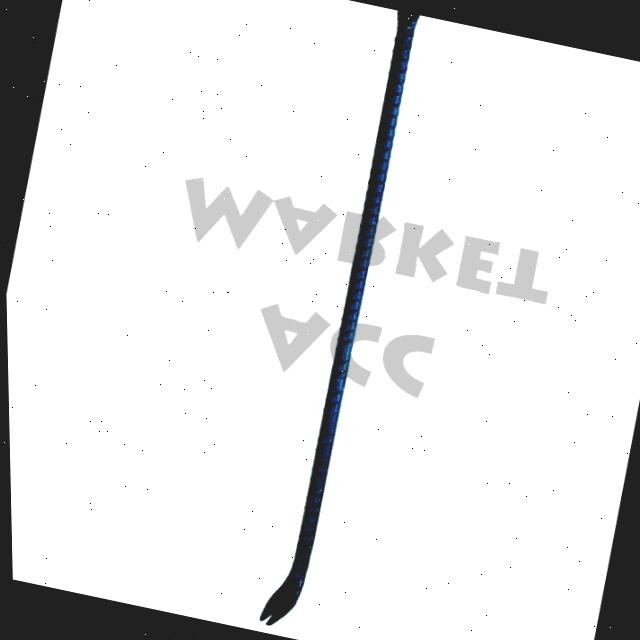crow bar: (244, 4, 428, 640)
